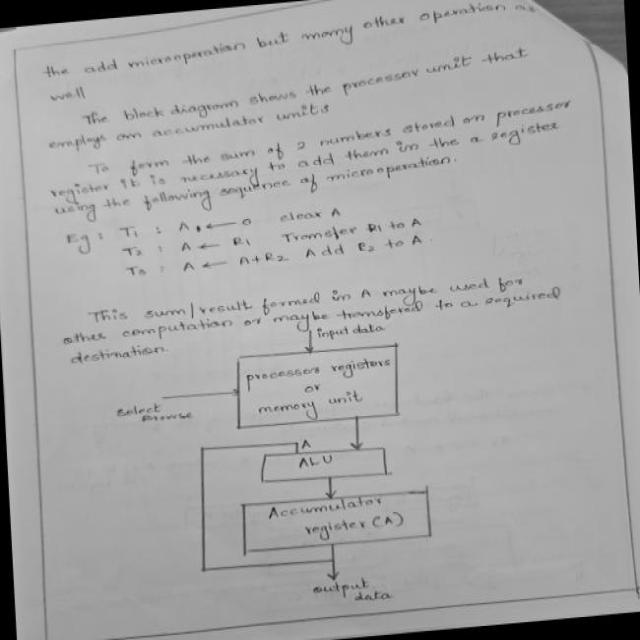Figure Detection - v3 Dataset Version2: (98, 306, 500, 632)
